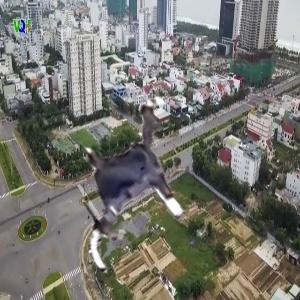drone: (41, 93, 220, 272)
